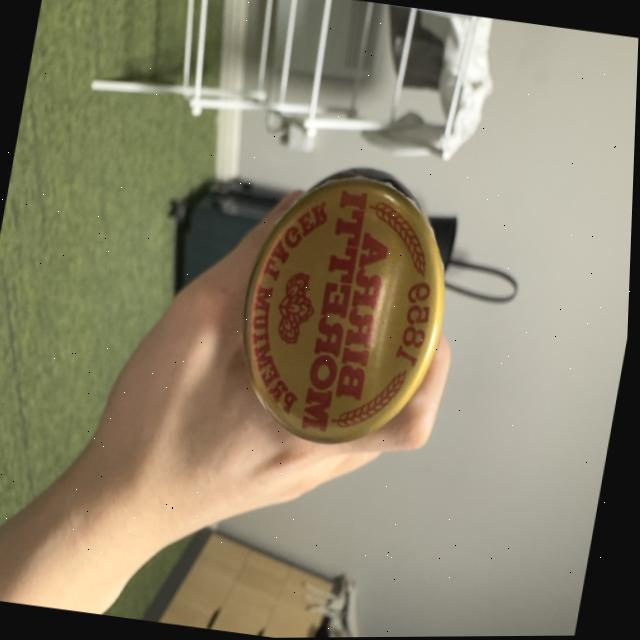beer: (222, 147, 473, 462)
